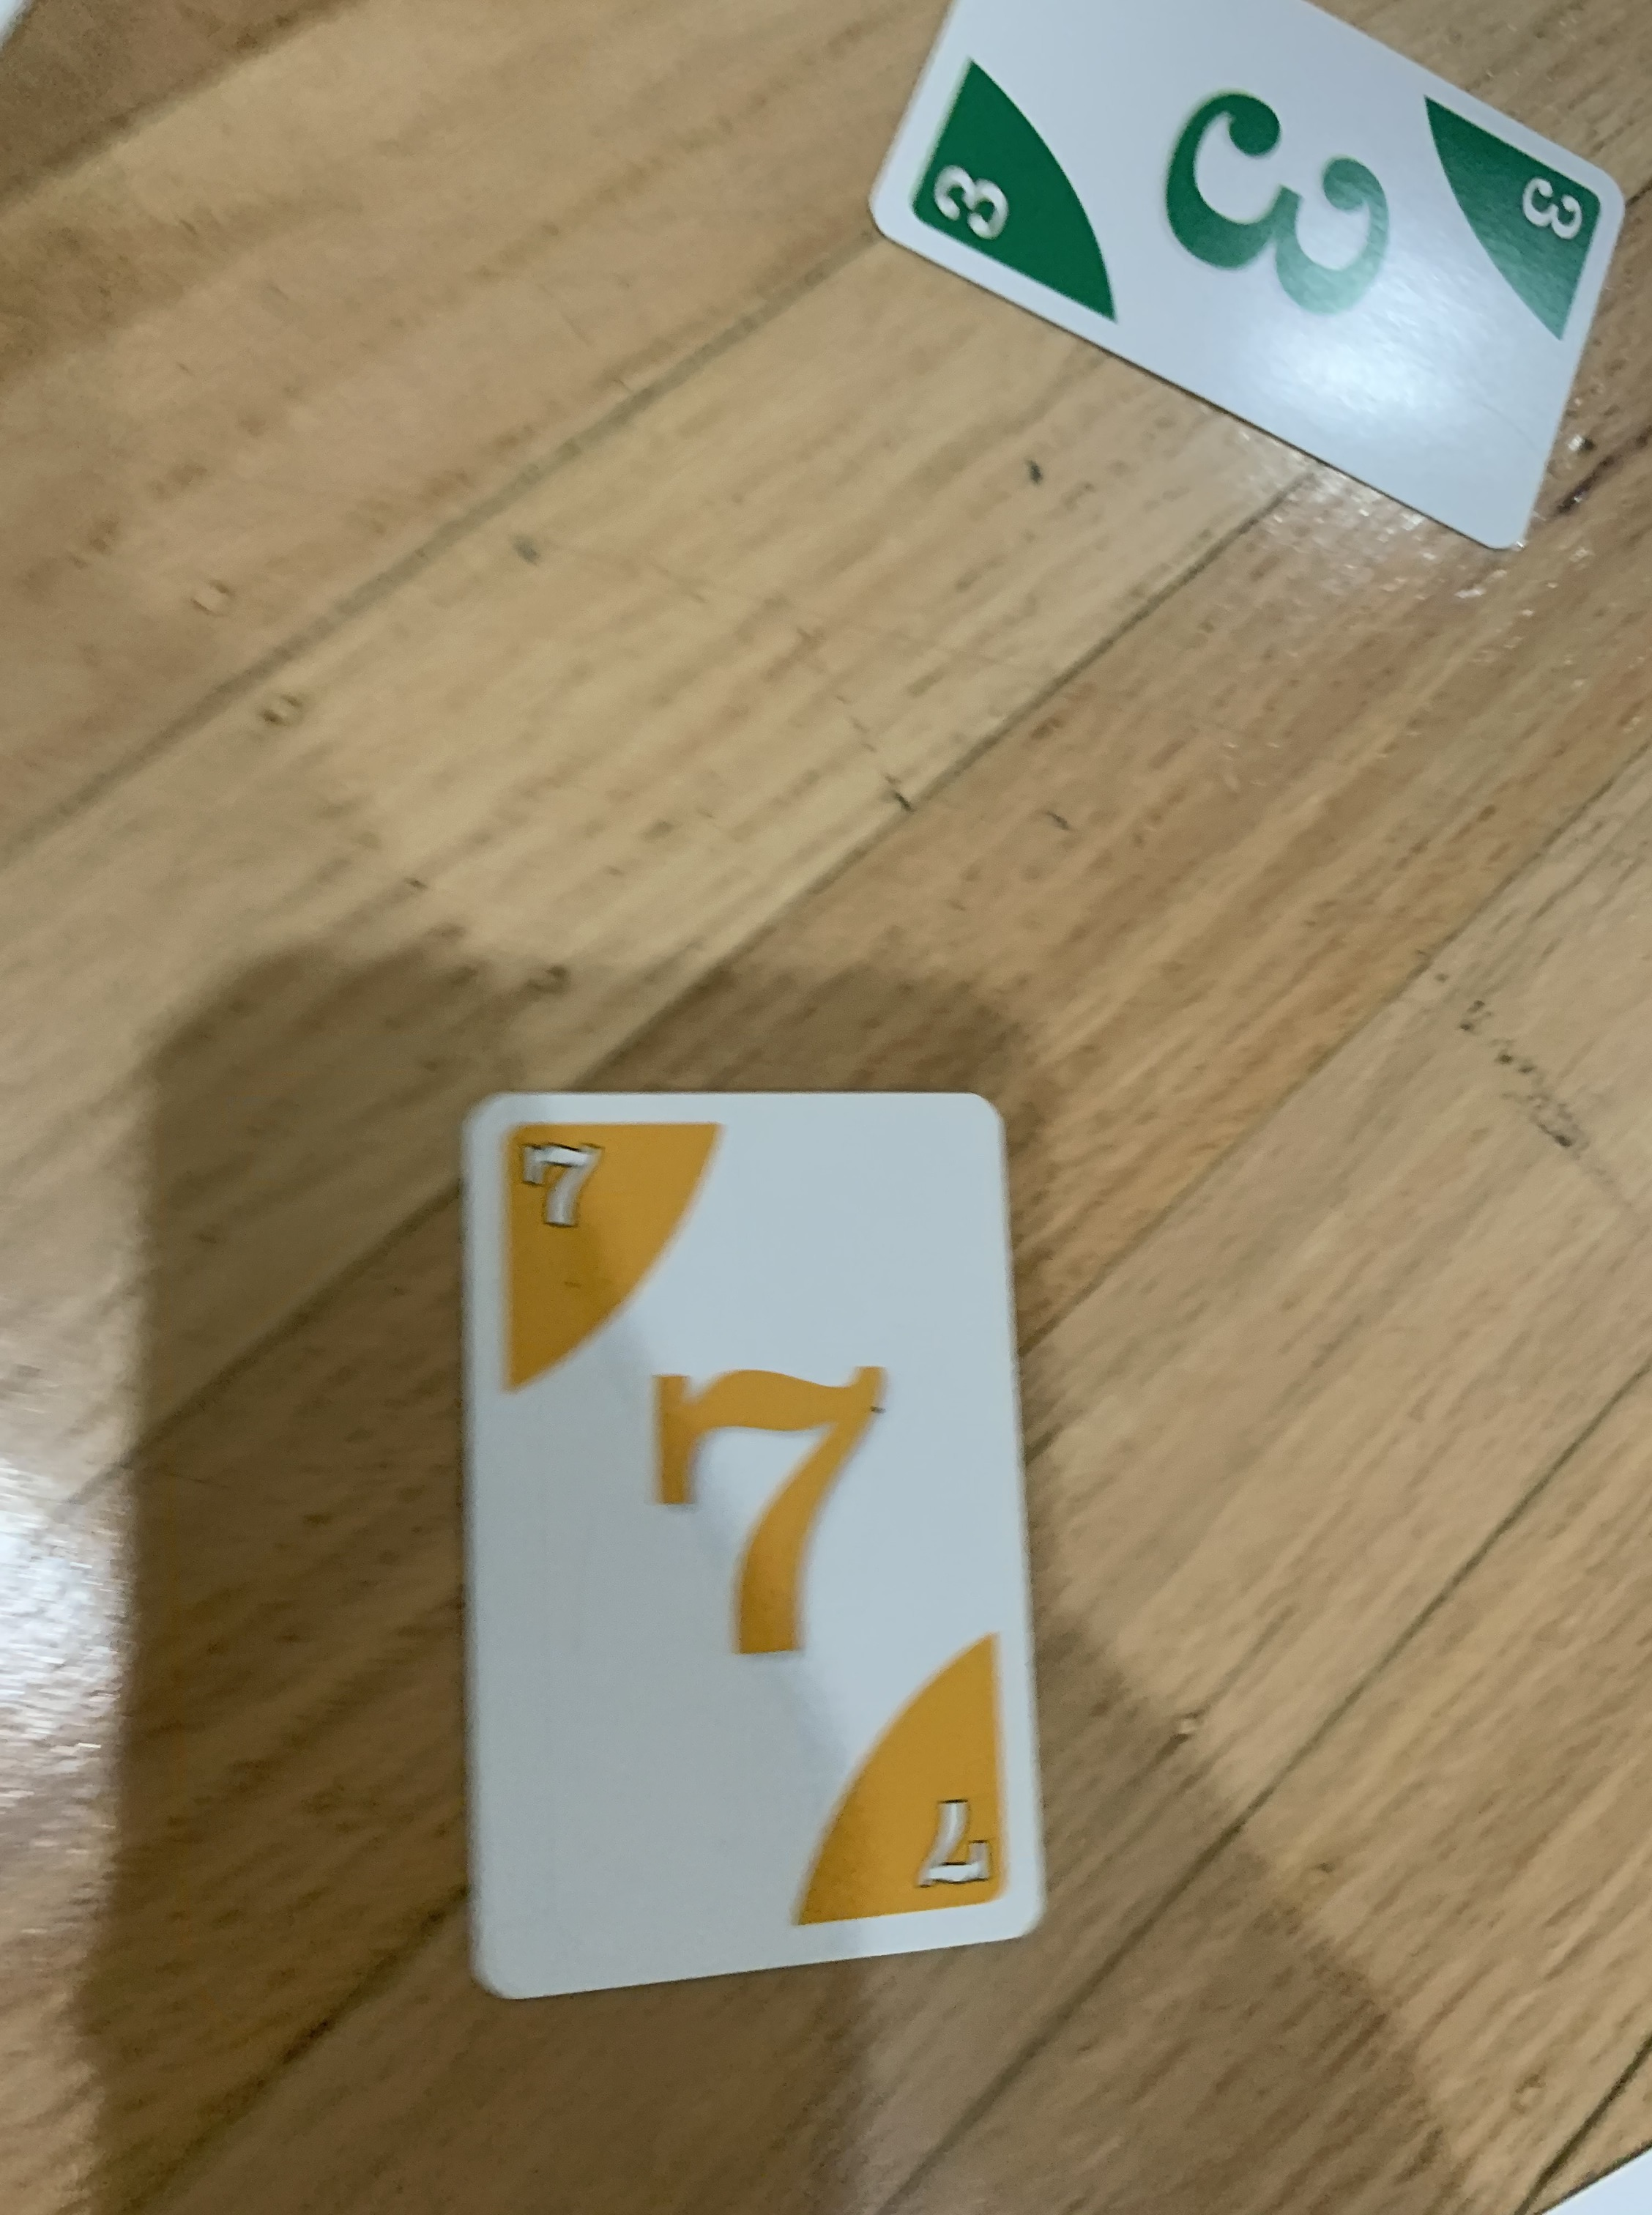seven: (455, 1087, 1048, 2003)
